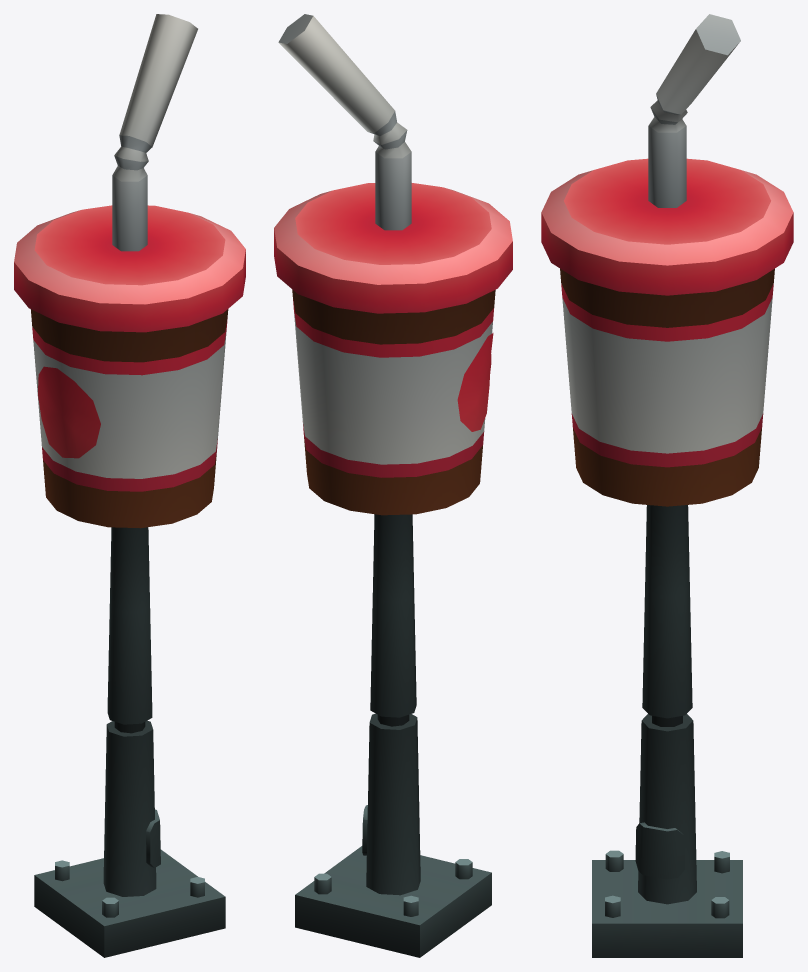
File: Billboard_4A.fbx
The picture shows the model from 3 angles, left to right: view 1: azimuth 30°, elevation 25°; view 2: azimuth 150°, elevation 25°; view 3: azimuth 270°, elevation 25°; orthographic projection. The views are drawn at different scales.
Visible parts, largest first — view 1: Billboard_4A_Rotating_Cup, Billboard_4A; view 2: Billboard_4A_Rotating_Cup, Billboard_4A; view 3: Billboard_4A_Rotating_Cup, Billboard_4A.
Part boxes in pixels (x1,y1,x2,y2): Billboard_4A_Rotating_Cup: (14, 14, 245, 724); Billboard_4A: (34, 720, 225, 957); Billboard_4A_Rotating_Cup: (274, 14, 512, 717); Billboard_4A: (295, 713, 491, 957); Billboard_4A_Rotating_Cup: (541, 14, 793, 718); Billboard_4A: (592, 714, 742, 957).
Bounding box in the file's own units: 3.34 × 13.79 × 3.34.
